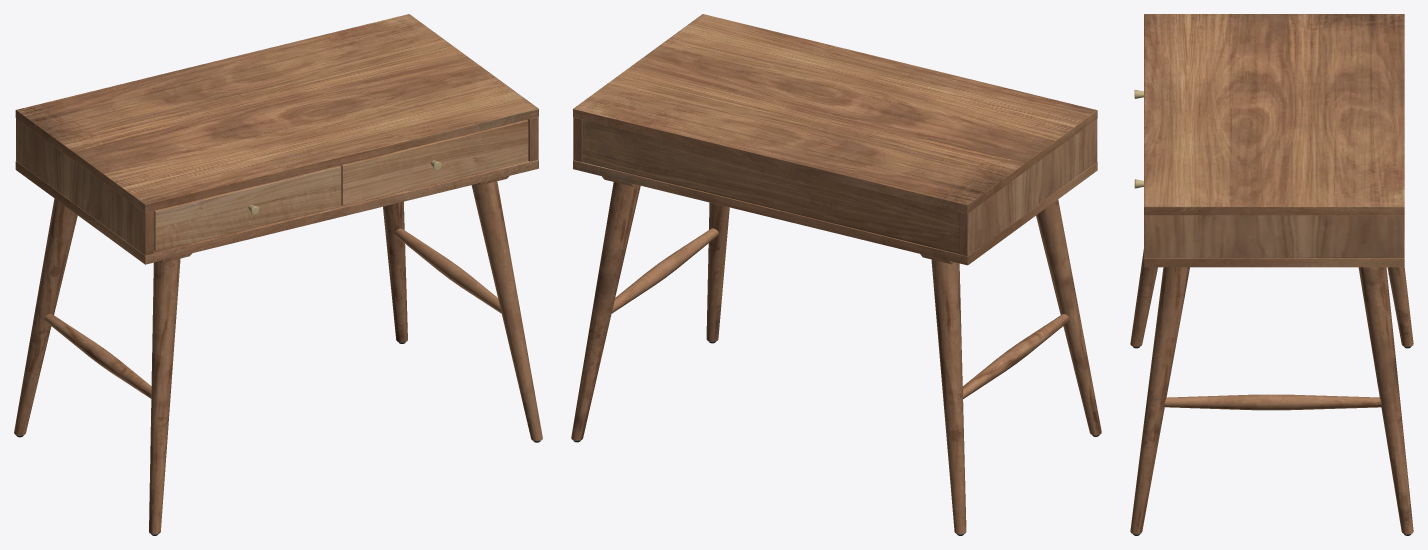
3 views of the same model, side by side, from view 1: azimuth 30°, elevation 25°; view 2: azimuth 150°, elevation 25°; view 3: azimuth 270°, elevation 25° (orthographic).
Visible parts, largest first — view 1: RootNode; view 2: RootNode; view 3: RootNode.
Boxes of the visible parts, x1,y1,x2,y2 form: RootNode: (14, 14, 542, 535); RootNode: (571, 14, 1101, 535); RootNode: (1130, 14, 1413, 535).
Size of the model in its own units: 0.9494 by 0.7579 by 0.5881.
1 material, 1 textured.
